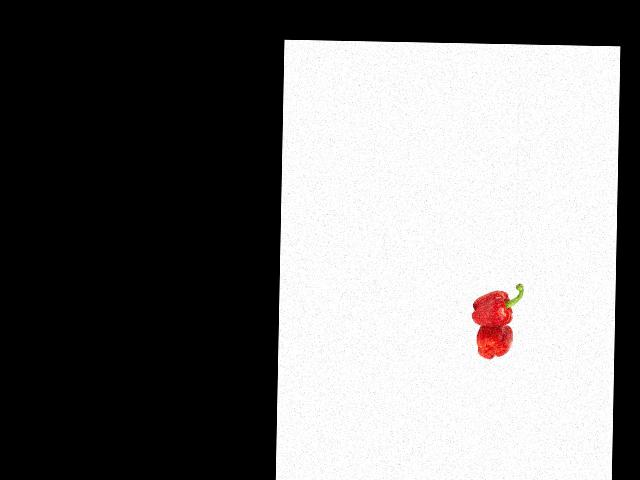bell_pepper: (474, 324, 515, 359)
